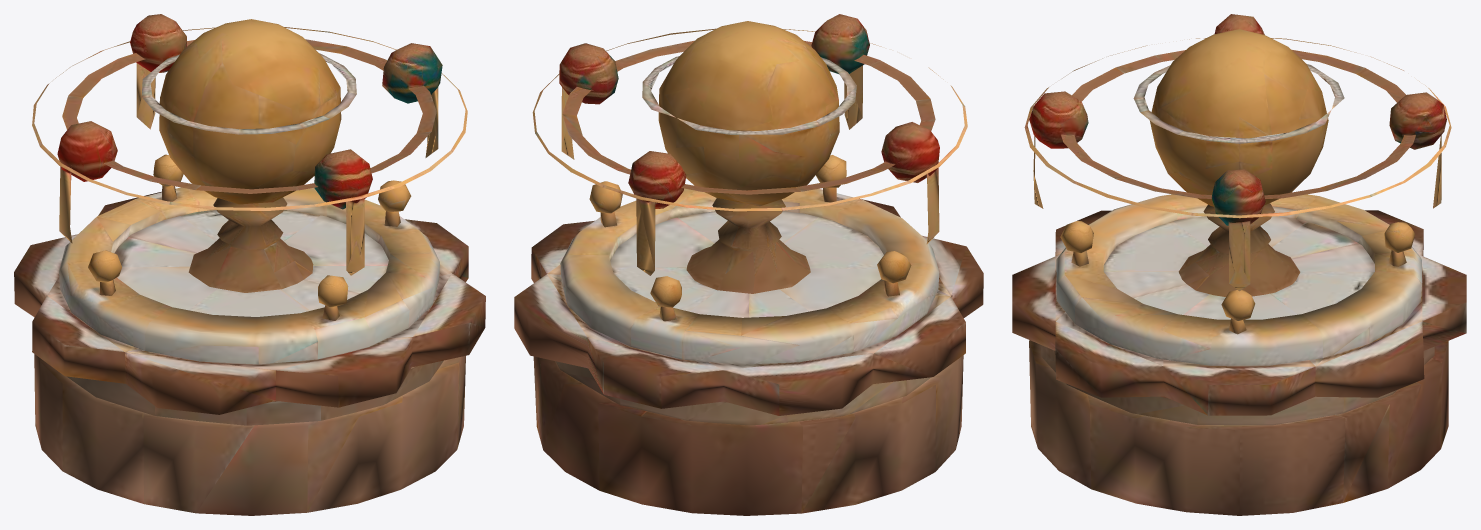
Rendered from keepsake-orrery.glb.
The picture shows the model from 3 angles, left to right: view 1: azimuth 30°, elevation 25°; view 2: azimuth 150°, elevation 25°; view 3: azimuth 270°, elevation 25°; orthographic projection. The views are drawn at different scales.
Visible parts, largest first — view 1: keepsake-orrery; view 2: keepsake-orrery; view 3: keepsake-orrery.
Boxes of the visible parts, <box> form: keepsake-orrery: <box>14,14,485,515</box>; keepsake-orrery: <box>514,14,983,515</box>; keepsake-orrery: <box>1012,14,1466,515</box>.
Bounding box in the file's own units: 0.6345 × 0.6 × 0.6345.
Materials: 1 (1 with a texture image).
